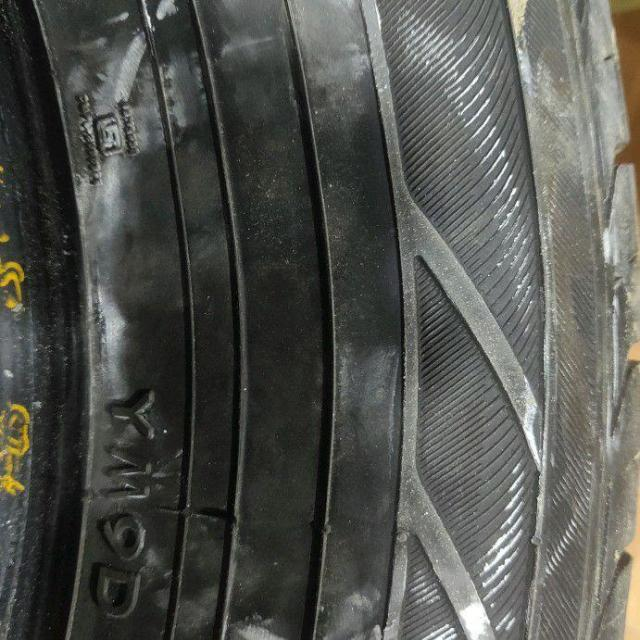Flat spots: (114, 0, 633, 640)
